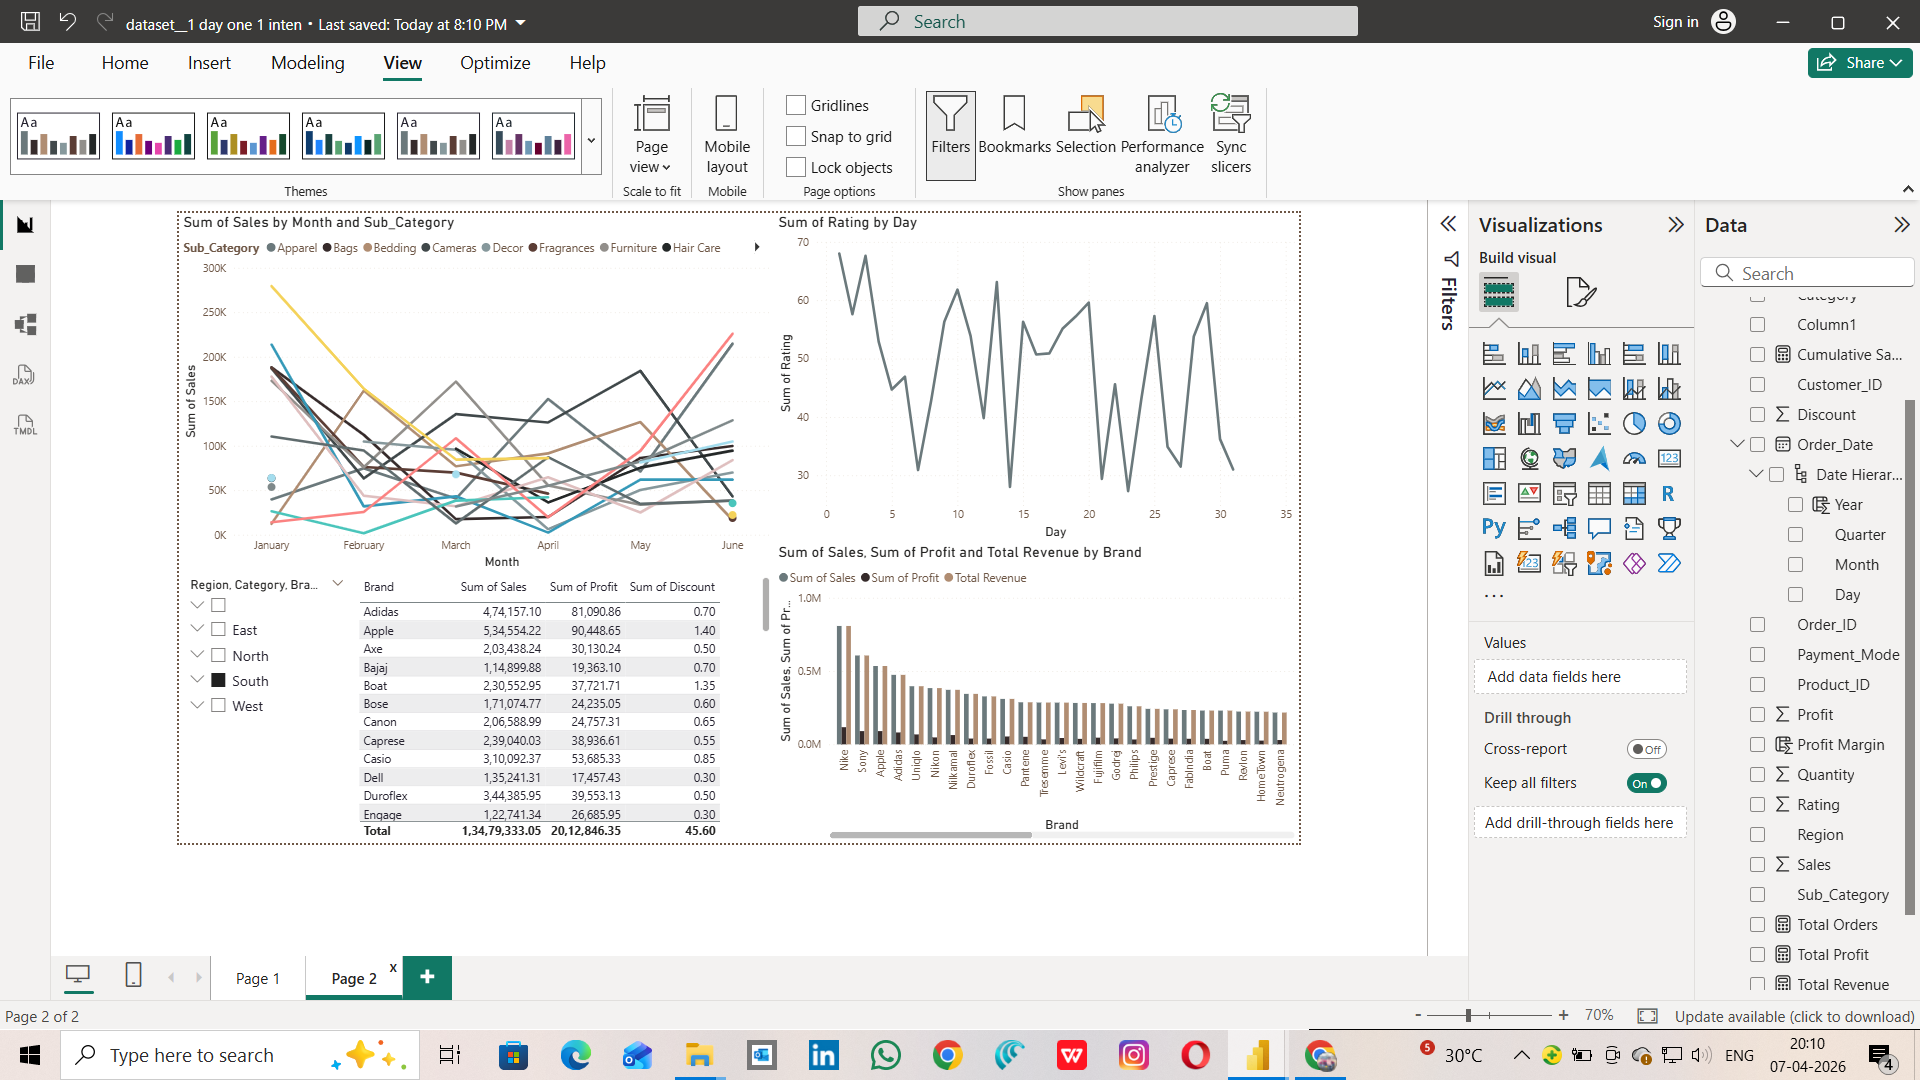

The dashboard page shown, as its layout file describes it:
{"tool":"powerbi","page":{"name":"Page 2","canvas":[1280,720],"ordinal":1},"visuals":[{"type":"lineChart","fields":{"Category":["dataset_1(Sheet1).Order_Date.Variation.Date Hierarchy.Month"],"Y":["Sum(dataset_1(Sheet1).Sales)"],"Series":["dataset_1(Sheet1).Sub_Category"]},"box":[0,0,680,411.4],"z":0},{"type":"clusteredColumnChart","fields":{"Y":["Sum(dataset_1(Sheet1).Sales)","Sum(dataset_1(Sheet1).Profit)","dataset_1(Sheet1).Total Revenue"],"Category":["dataset_1(Sheet1).Brand"]},"box":[752.8,377.6,527.2,342.6],"z":1000},{"type":"slicer","fields":{"Values":["dataset_1(Sheet1).Region"]},"box":[480.2,421,257,113.4],"z":2000},{"type":"lineChart","fields":{"Category":["dataset_1(Sheet1).Order_Date.Variation.Date Hierarchy.Day"],"Y":["Sum(dataset_1(Sheet1).Rating)"]},"box":[680,0,600,377.1],"z":3000},{"type":"tableEx","fields":{"Values":["dataset_1(Sheet1).Brand","Sum(dataset_1(Sheet1).Sales)","Sum(dataset_1(Sheet1).Profit)","Sum(dataset_1(Sheet1).Discount)"]},"box":[0,411.4,480.2,308.8],"z":4000},{"type":"cardVisual","fields":{"Data":["dataset_1(Sheet1).Total Profit"]},"box":[480.2,534.5,247.3,185.8],"z":4001}]}

Visuals, with their boxes on the page's 1280x720 design canvas (x1, y1, x2, y2). These are canvas units, not pixel positions in the 1920x1080 screenshot, which may show the page scaled, cropped or inside an application window:
lineChart - dataset_1(Sheet1).Order_Date.Variation.Date Hierarchy.Month x Sum(dataset_1(Sheet1).Sales): [0, 0, 680, 411]
clusteredColumnChart - Sum(dataset_1(Sheet1).Sales) x Sum(dataset_1(Sheet1).Profit): [753, 378, 1280, 720]
slicer - dataset_1(Sheet1).Region: [480, 421, 737, 534]
lineChart - dataset_1(Sheet1).Order_Date.Variation.Date Hierarchy.Day x Sum(dataset_1(Sheet1).Rating): [680, 0, 1280, 377]
tableEx - dataset_1(Sheet1).Brand x Sum(dataset_1(Sheet1).Sales): [0, 411, 480, 720]
cardVisual - dataset_1(Sheet1).Total Profit: [480, 534, 728, 720]
